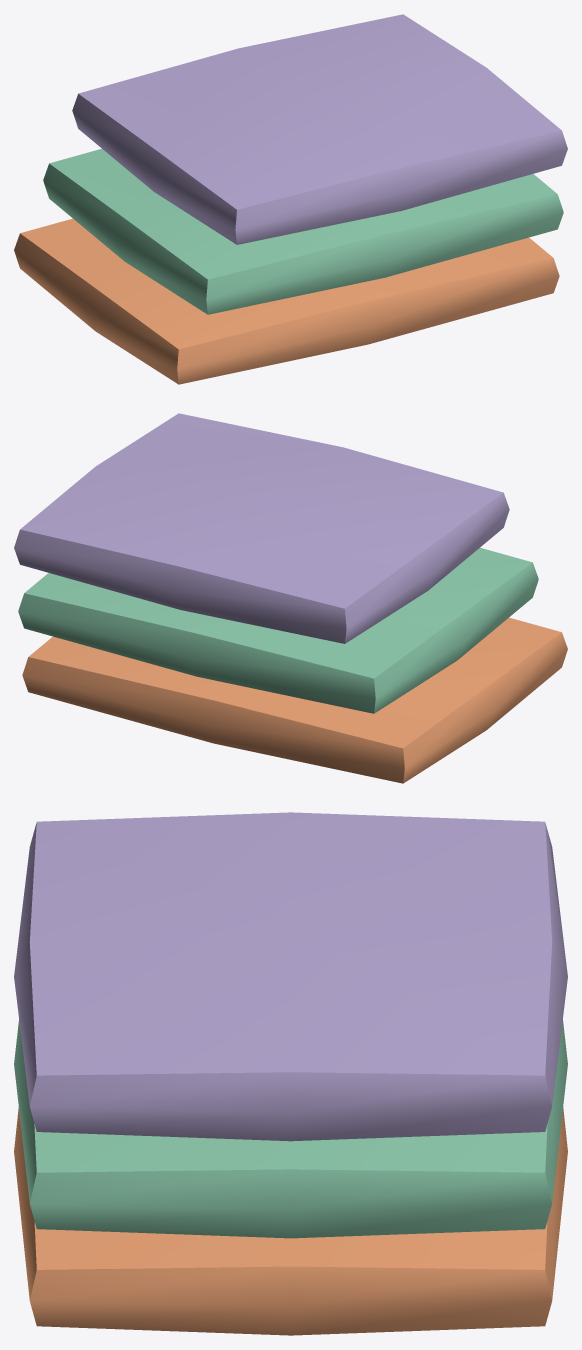
The model's file is book-stack.glb.
The picture shows the model from 3 angles, top to bottom: view 1: azimuth 30°, elevation 25°; view 2: azimuth 150°, elevation 25°; view 3: azimuth 270°, elevation 25°; orthographic projection. The views are drawn at different scales.
Parts seen in each view (by area): view 1: part (×3); view 2: part (×3); view 3: part (×3).
Part boxes in pixels (left/top/right/bottom): part (×3): left=14, top=14, right=567, bottom=384; part (×3): left=14, top=413, right=567, bottom=783; part (×3): left=14, top=812, right=567, bottom=1335.
Bounding box in the file's own units: 0.245 × 0.107 × 0.18.
Materials: 1 (1 with a texture image).
